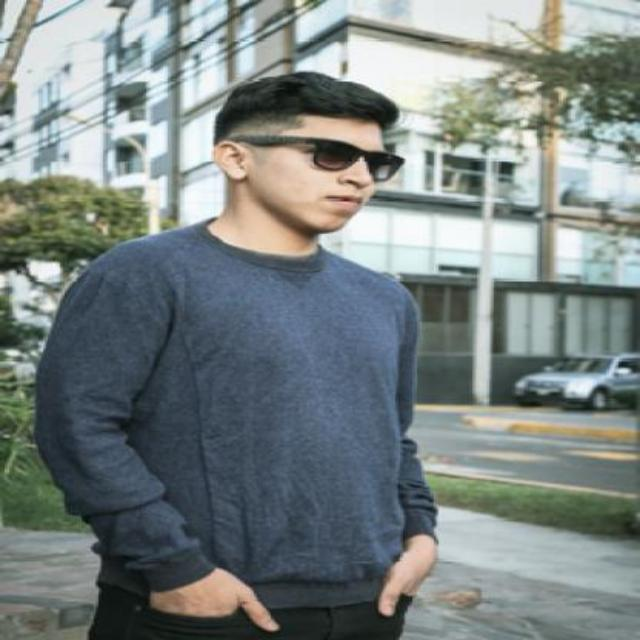sunglasses: (222, 134, 406, 180)
